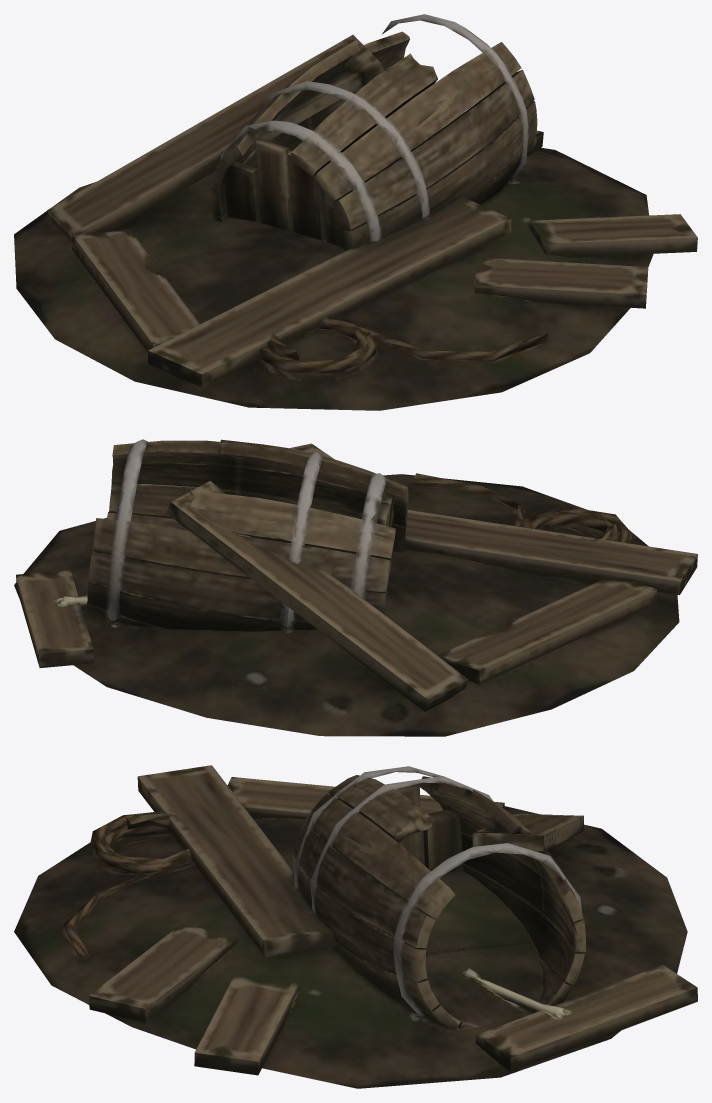
Rendered from sunken_debris.glb.
3 renders of one model, top to bottom at view 1: azimuth 30°, elevation 25°; view 2: azimuth 150°, elevation 25°; view 3: azimuth 270°, elevation 25°, orthographic. The views are drawn at different scales.
Parts seen in each view (by area): view 1: sunken_debris; view 2: sunken_debris; view 3: sunken_debris.
Boxes of the visible parts, x1,y1,x2,y2 form: sunken_debris: [14, 14, 697, 410]; sunken_debris: [14, 439, 697, 736]; sunken_debris: [14, 765, 697, 1088].
Bounding box in the file's own units: 1.91 × 0.6379 × 1.85.
1 material, 1 textured.
